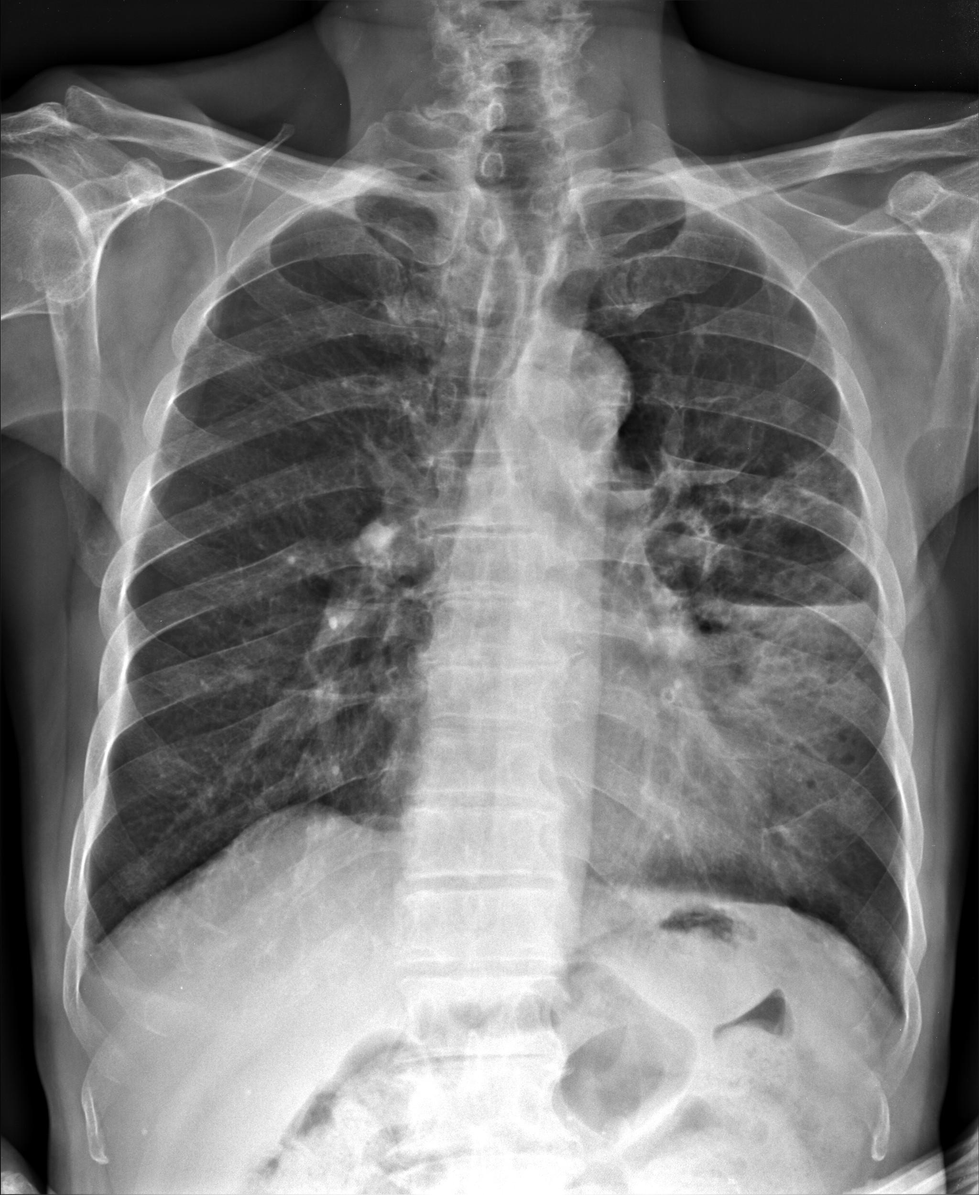Aortic enlargement: (514, 327, 638, 444)
Pleural thickening: (339, 164, 430, 192), (615, 169, 683, 195)
